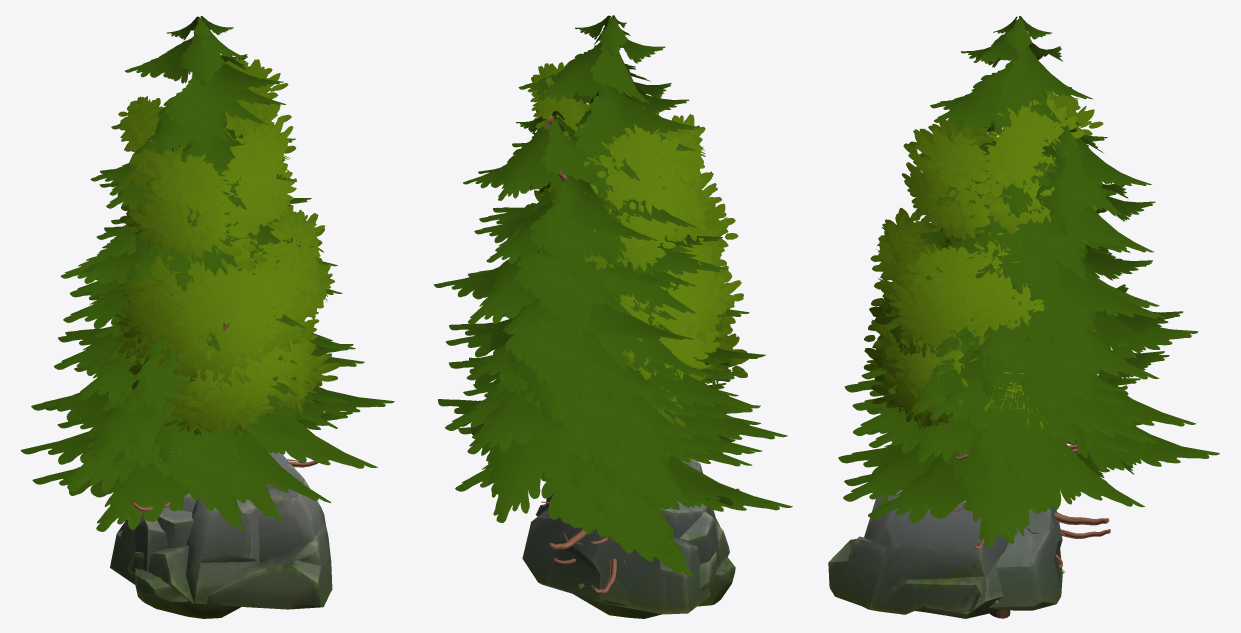
File: nature.glb
3 renders of one model, left to right at view 1: azimuth 30°, elevation 25°; view 2: azimuth 150°, elevation 25°; view 3: azimuth 270°, elevation 25°, orthographic. The views are drawn at different scales.
Visible parts, largest first — view 1: CommonTree_3, Pine_4, CommonTree_1, Pine_5, Rock_Medium_3, Pine_2, Rock_Medium_1, Pine_1, Rock_Medium_2, Pine_3; view 2: Pine_5, Pine_4, CommonTree_3, Rock_Medium_2, Pine_2, CommonTree_1, Pine_1, Rock_Medium_3, Rock_Medium_1, Pine_3; view 3: Pine_5, Pine_4, CommonTree_3, Rock_Medium_3, CommonTree_1, Pine_2, Rock_Medium_2, Pine_1, Rock_Medium_1, Pine_3.
Part boxes in pixels (bbox=[...]): CommonTree_3: bbox=[118, 55, 334, 389]; Pine_4: bbox=[31, 16, 355, 511]; CommonTree_1: bbox=[114, 203, 339, 435]; Pine_5: bbox=[20, 163, 394, 521]; Rock_Medium_3: bbox=[135, 452, 332, 618]; Pine_2: bbox=[32, 203, 352, 531]; Rock_Medium_1: bbox=[127, 497, 260, 603]; Pine_1: bbox=[57, 225, 330, 483]; Rock_Medium_2: bbox=[110, 506, 193, 584]; Pine_3: bbox=[74, 230, 310, 408]; Pine_5: bbox=[433, 110, 770, 559]; Pine_4: bbox=[445, 15, 787, 593]; CommonTree_3: bbox=[526, 62, 738, 380]; Rock_Medium_2: bbox=[522, 500, 710, 614]; Pine_2: bbox=[455, 249, 792, 577]; CommonTree_1: bbox=[538, 193, 748, 426]; Pine_1: bbox=[472, 239, 762, 549]; Rock_Medium_3: bbox=[536, 493, 735, 606]; Rock_Medium_1: bbox=[547, 458, 729, 618]; Pine_3: bbox=[489, 269, 738, 564]; Pine_5: bbox=[844, 125, 1219, 547]; Pine_4: bbox=[844, 16, 1169, 549]; CommonTree_3: bbox=[868, 87, 1103, 618]; Rock_Medium_3: bbox=[828, 490, 1008, 614]; CommonTree_1: bbox=[863, 221, 1103, 617]; Pine_2: bbox=[838, 205, 1144, 543]; Rock_Medium_2: bbox=[989, 507, 1062, 610]; Pine_1: bbox=[866, 204, 1140, 525]; Rock_Medium_1: bbox=[915, 526, 1019, 618]; Pine_3: bbox=[888, 248, 1129, 568].
Bounding box in the file's own units: 6.42 × 10.32 × 6.36.
10 materials, 10 textured.
